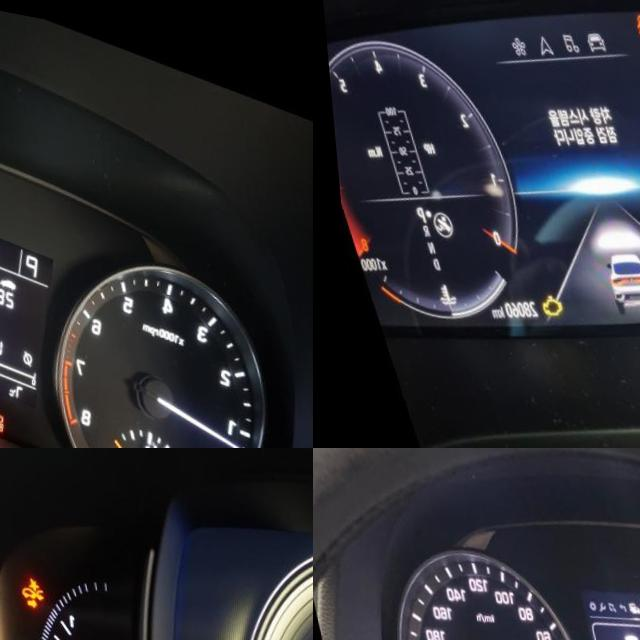Doors: (631, 0, 640, 28)
